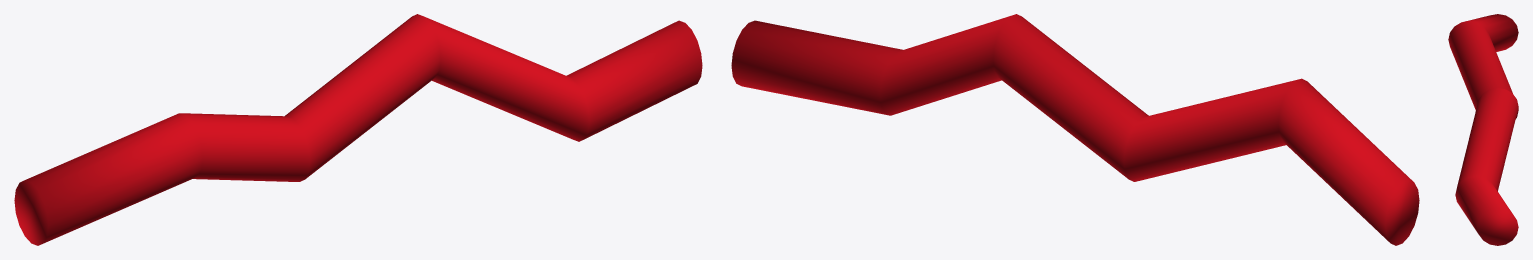
The model's file is cable5.glb.
3 renders of one model, left to right at view 1: azimuth 30°, elevation 25°; view 2: azimuth 150°, elevation 25°; view 3: azimuth 270°, elevation 25°, orthographic. The views are drawn at different scales.
Visible parts, largest first — view 1: cable5; view 2: cable5; view 3: cable5.
Boxes of the visible parts, x1,y1,x2,y2 form: cable5: (14, 14, 702, 245); cable5: (731, 14, 1419, 245); cable5: (1448, 14, 1518, 245).
Size of the model in its own units: 2 by 0.4146 by 0.3048.
